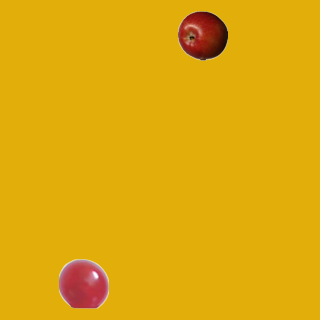Apple Braeburn: (177, 10, 227, 60)
Redcurrant: (58, 258, 108, 308)
